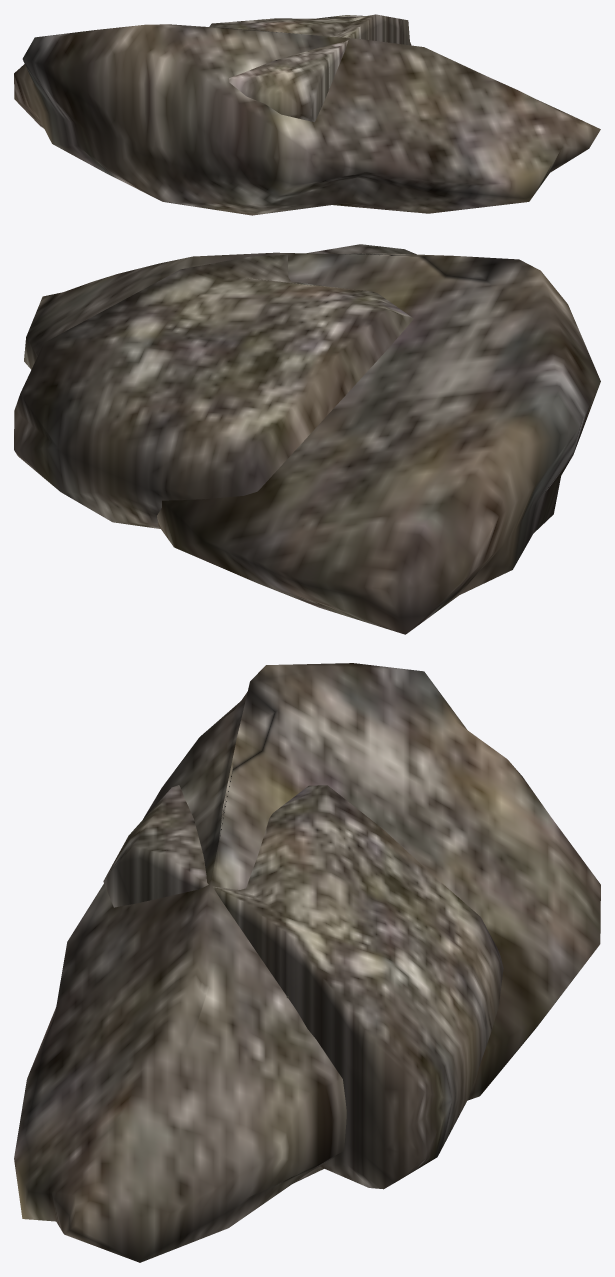
File: pebbles.glb
The picture shows the model from 3 angles, top to bottom: view 1: azimuth 30°, elevation 25°; view 2: azimuth 150°, elevation 25°; view 3: azimuth 270°, elevation 25°; orthographic projection. The views are drawn at different scales.
Visible parts, largest first — view 1: Stone_B, Stone_A; view 2: Stone_B, Stone_A; view 3: Stone_B, Stone_A.
Boxes of the visible parts, x1,y1,x2,y2 form: Stone_B: [14, 24, 600, 215]; Stone_A: [209, 14, 411, 122]; Stone_B: [24, 252, 600, 634]; Stone_A: [14, 244, 416, 528]; Stone_B: [14, 663, 600, 1262]; Stone_A: [103, 785, 503, 1189].
Bounding box in the file's own units: 4.08 × 1.88 × 2.76.
Materials: 1 (1 with a texture image).
